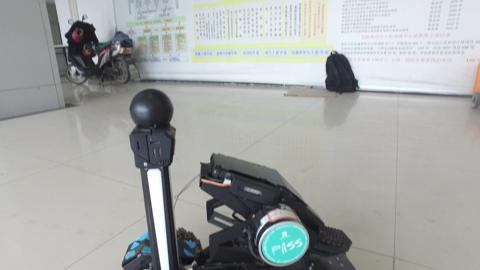bag: (304, 35, 372, 102)
chariot: (81, 104, 369, 270)
